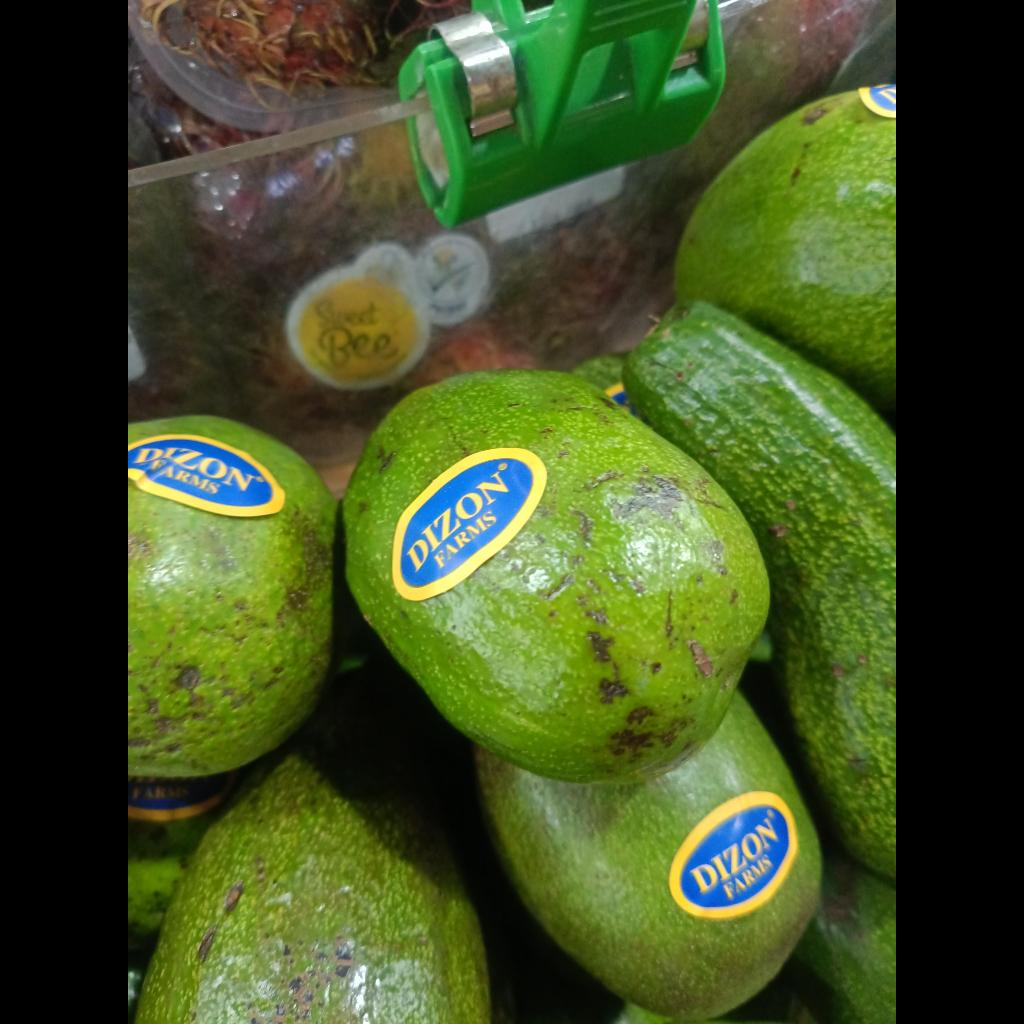fruto_sano: (344, 370, 769, 783)
